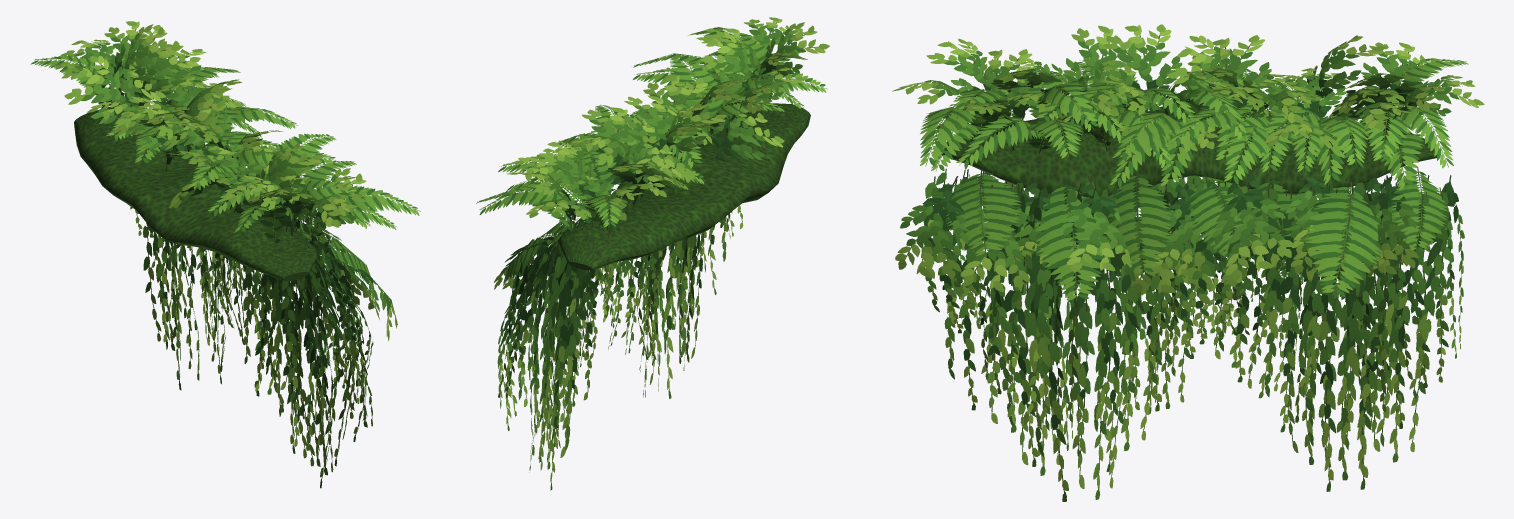
3 views of the same model, side by side, from view 1: azimuth 30°, elevation 25°; view 2: azimuth 150°, elevation 25°; view 3: azimuth 270°, elevation 25° (orthographic). The views are drawn at different scales.
Visible parts, largest first — view 1: Mesh_DrapeLeaves, Mesh_DrapeMoss; view 2: Mesh_DrapeLeaves, Mesh_DrapeMoss; view 3: Mesh_DrapeLeaves, Mesh_DrapeMoss.
Part boxes in pixels (x1,y1,x2,y2): Mesh_DrapeLeaves: [30, 21, 420, 488]; Mesh_DrapeMoss: [74, 106, 318, 281]; Mesh_DrapeLeaves: [476, 17, 829, 490]; Mesh_DrapeMoss: [557, 103, 810, 270]; Mesh_DrapeLeaves: [892, 24, 1484, 501]; Mesh_DrapeMoss: [941, 105, 1437, 197].
Bounding box in the file's own units: 2.81 × 4.9 × 6.53.
2 materials, 2 textured.
